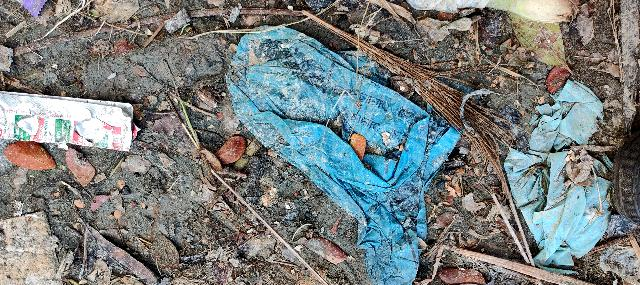polythene: (236, 26, 464, 276)
